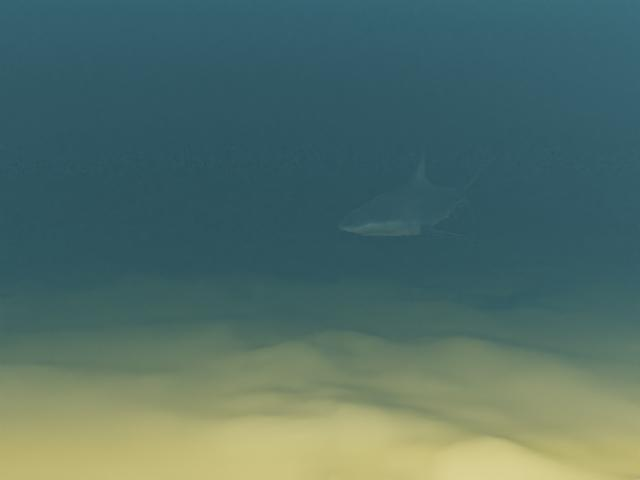Carribean Shark.001: (338, 151, 502, 242)
